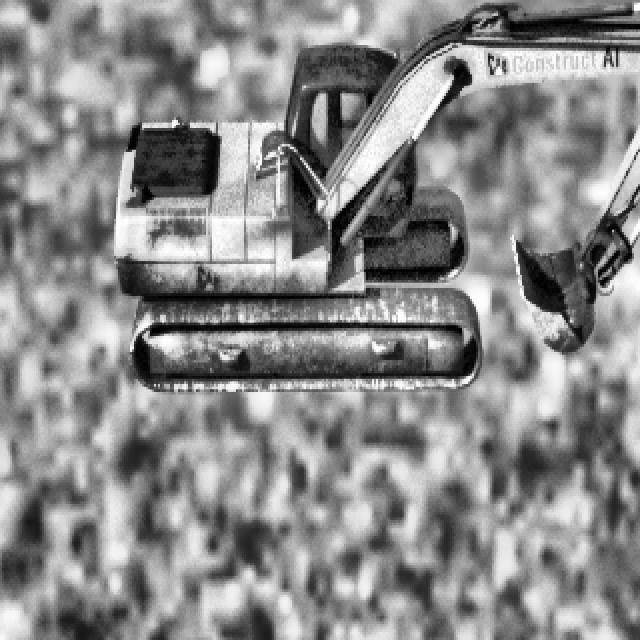excavator: (112, 0, 640, 389)
